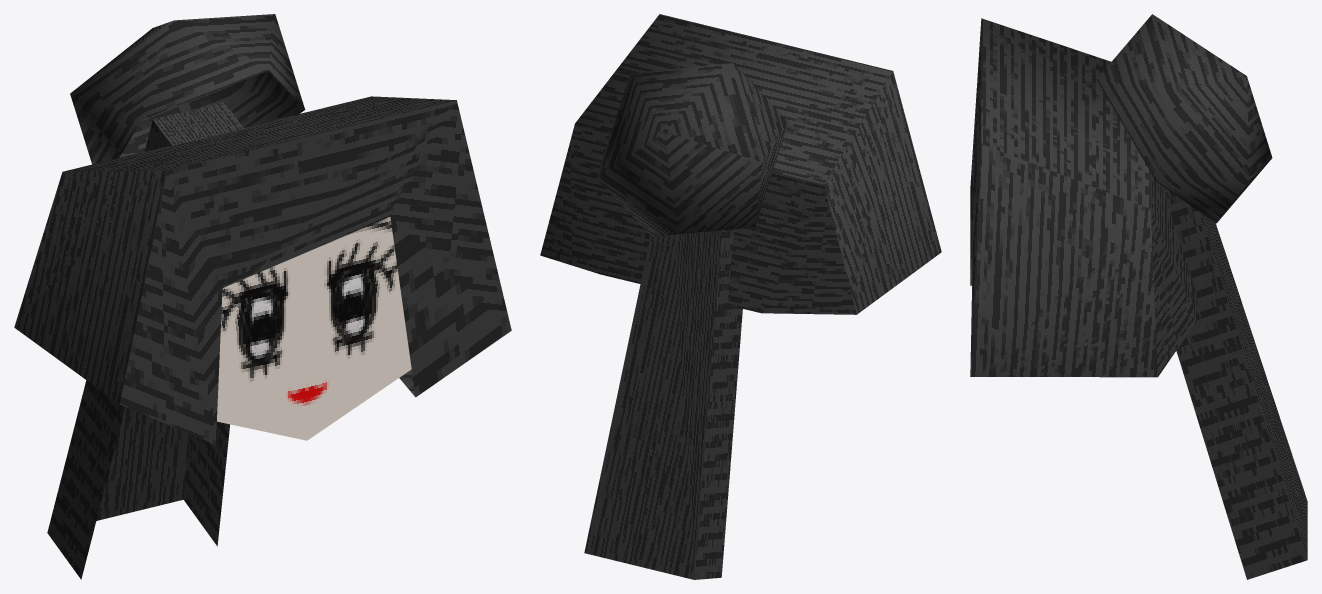
The model's file is C_GH_Head_F7.FBX.
The picture shows the model from 3 angles, left to right: view 1: azimuth 30°, elevation 25°; view 2: azimuth 150°, elevation 25°; view 3: azimuth 270°, elevation 25°; orthographic projection. The views are drawn at different scales.
Parts seen in each view (by area): view 1: Hair, Face; view 2: Hair; view 3: Hair.
Boxes of the visible parts, x1=… form: Hair: x1=14, y1=14, x2=511, y2=579; Face: x1=217, y1=217, x2=411, y2=440; Hair: x1=540, y1=14, x2=941, y2=579; Hair: x1=970, y1=14, x2=1307, y2=579.
Bounding box in the file's own units: 33.15 × 47.57 × 27.74.
Materials: 2 (2 with a texture image).
